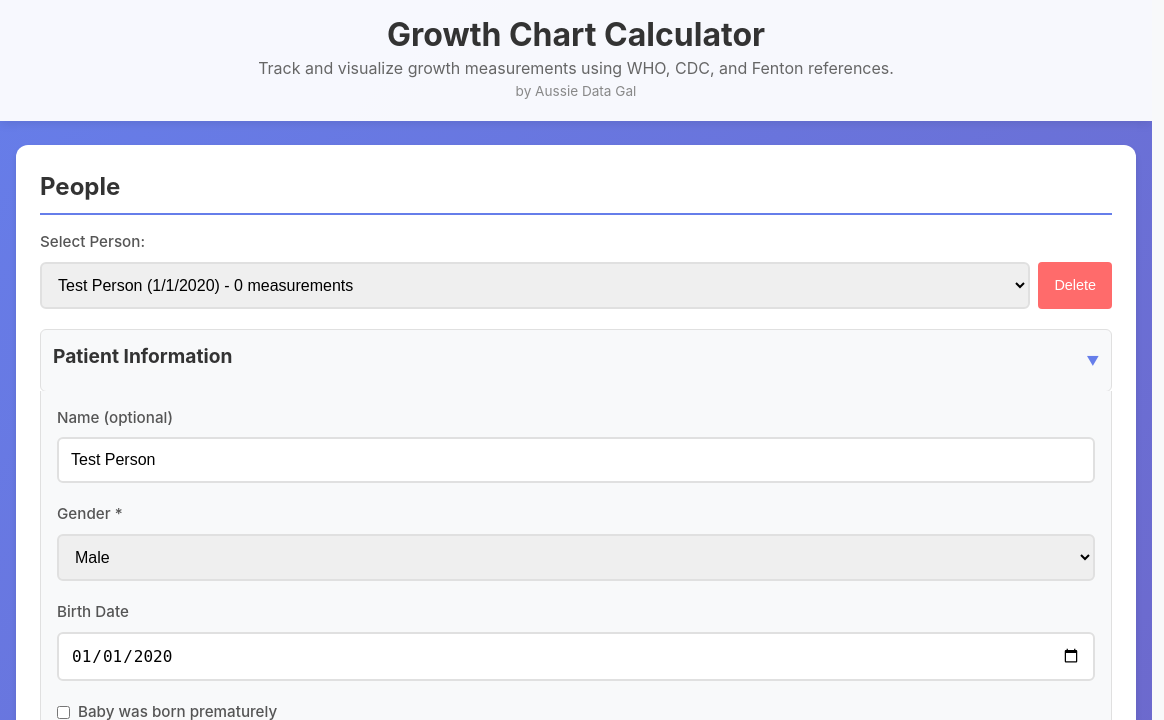
Scenario: Growth Charts Application - Comprehensive Tests › Selecting "Select Person" Option › should deselect current person when selecting "-- Select Person --"
// Select "-- Select Person --"
Select "-- Select Person --" in the dropdown labelled "Select Person:" at (535, 285), box [40, 262, 1030, 309]
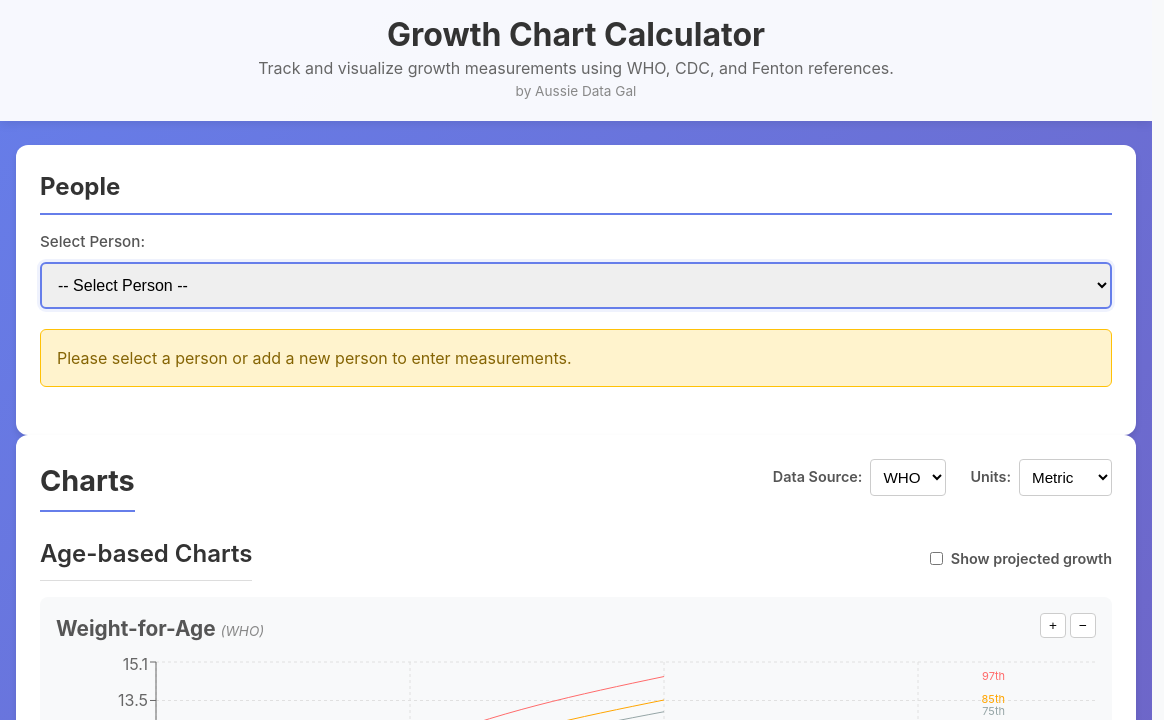
Expected: the text "Please select a person" is shown, [57, 348, 572, 368]
